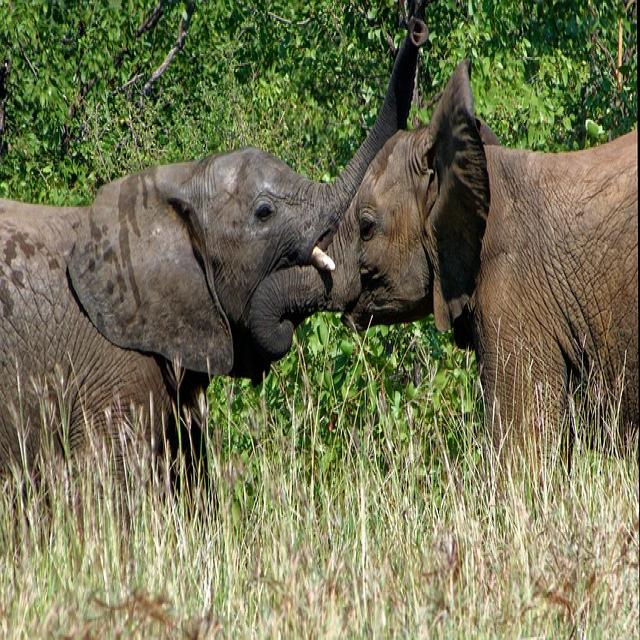FIL: (0, 12, 425, 532), (250, 57, 640, 459)
